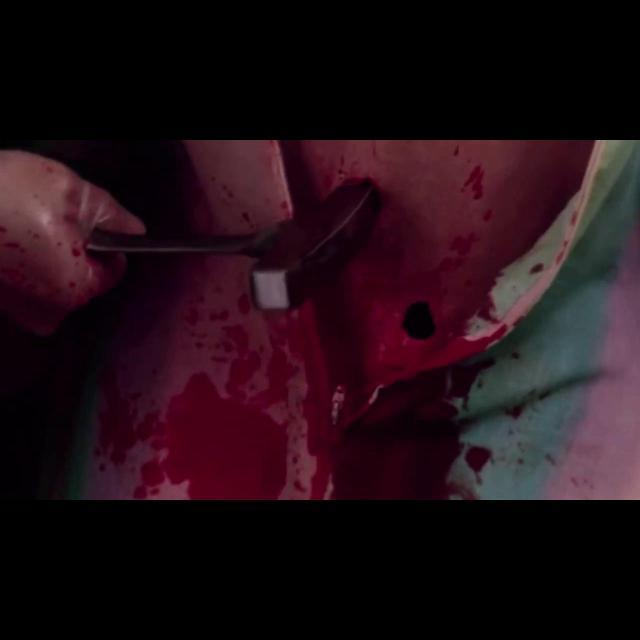blood: (0, 140, 612, 500)
